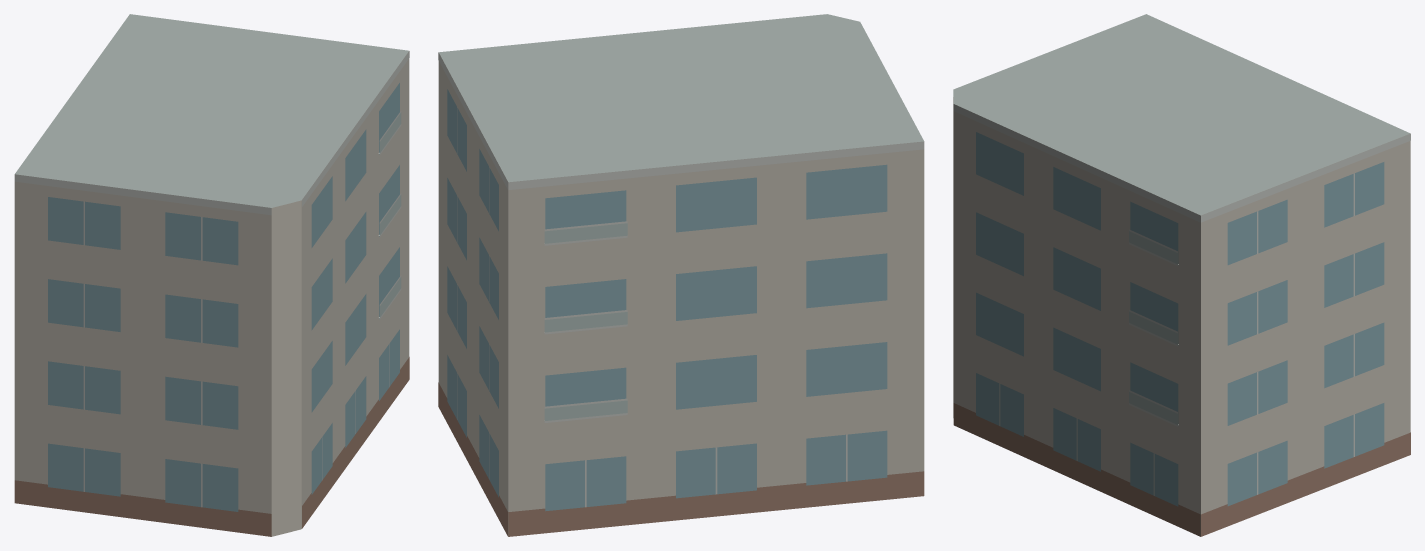
File: survey-upis-32776875.glb
3 views of the same model, side by side, from view 1: azimuth 30°, elevation 25°; view 2: azimuth 150°, elevation 25°; view 3: azimuth 270°, elevation 25° (orthographic). The views are drawn at different scales.
Parts seen in each view (by area): view 1: survey-upis-32776875.tmp; view 2: survey-upis-32776875.tmp; view 3: survey-upis-32776875.tmp.
Part boxes in pixels (x1,y1,x2,y2): survey-upis-32776875.tmp: [14, 14, 409, 536]; survey-upis-32776875.tmp: [438, 14, 924, 536]; survey-upis-32776875.tmp: [953, 14, 1410, 536].
Bounding box in the file's own units: 14.67 × 10.9 × 14.08.
